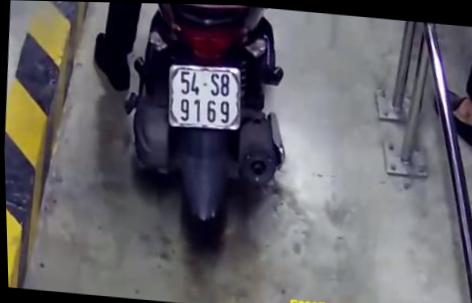LP: (165, 61, 243, 131)
